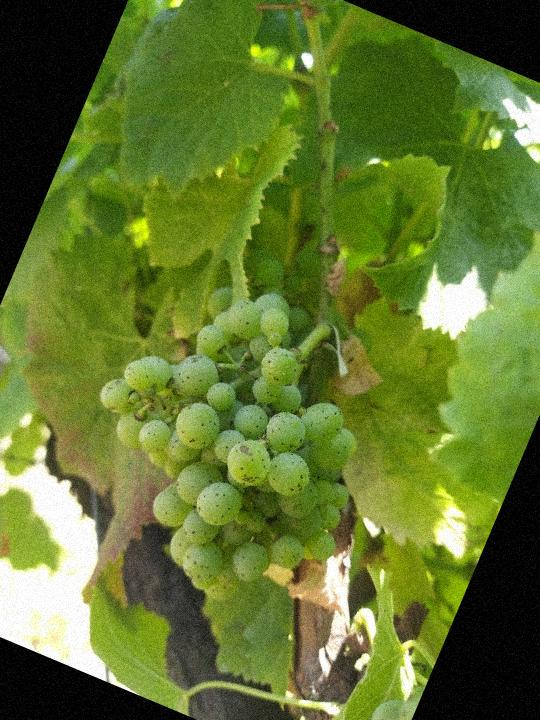grape: (37, 241, 419, 639)
